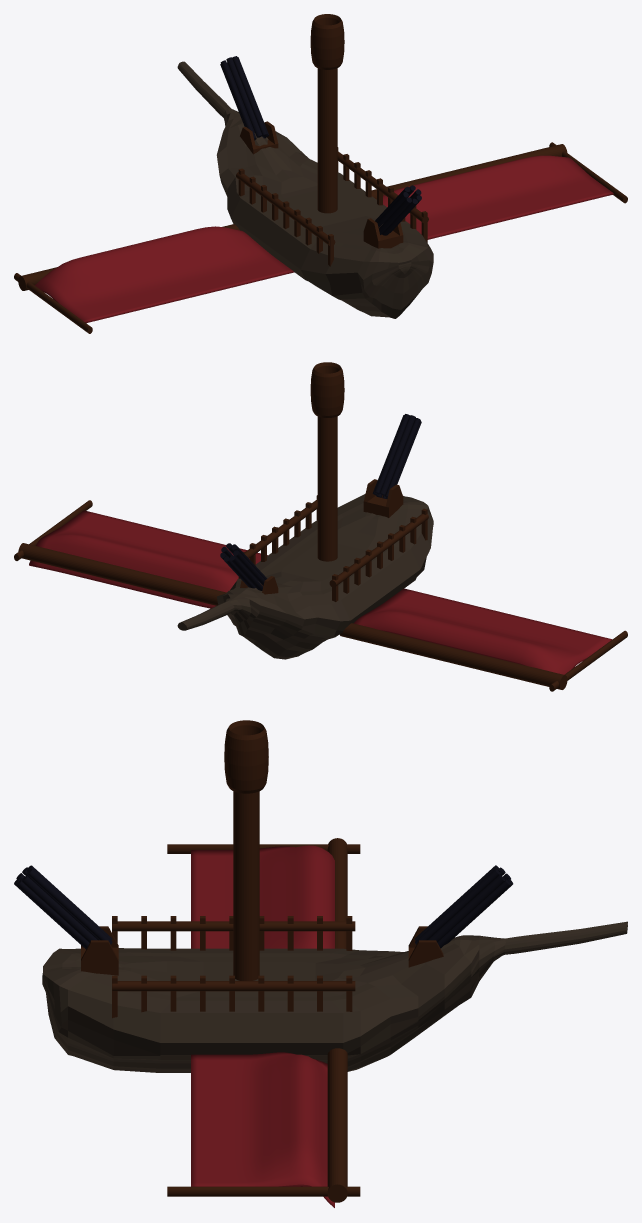
Rendered from ScoutShip.fbx.
The picture shows the model from 3 angles, top to bottom: view 1: azimuth 30°, elevation 25°; view 2: azimuth 150°, elevation 25°; view 3: azimuth 270°, elevation 25°; orthographic projection. The views are drawn at different scales.
Visible parts, largest first — view 1: Rumpf, Linkessegel, rechtessegel, Cylinder, Torus.002, Schießrohre.001, LeftReling, rechtesegelkonstruktion, Schießrohre, RightReling, Cylinder.001, MGBoden (+4 smaller); view 2: Rumpf, Linkessegel, rechtessegel, Linkesegelkonstruktion, rechtesegelkonstruktion, Cylinder, Torus.002, Schießrohre, LeftReling, Schießrohre.001, MGBoden, Cylinder.001 (+4 smaller); view 3: Rumpf, rechtessegel, Linkessegel, Cylinder, rechtesegelkonstruktion, Torus.002, Schießrohre.001, Schießrohre, Cylinder.013, Cylinder.001, Cylinder.004, RightReling (+5 smaller).
Boxes of the visible parts, bbox=[...] form: Rumpf: bbox=[177, 61, 433, 318]; Linkessegel: bbox=[35, 226, 294, 323]; rechtessegel: bbox=[383, 155, 613, 239]; Cylinder: bbox=[317, 68, 337, 213]; Torus.002: bbox=[310, 14, 344, 69]; Schießrohre.001: bbox=[220, 56, 269, 140]; LeftReling: bbox=[238, 168, 333, 266]; rechtesegelkonstruktion: bbox=[371, 144, 567, 199]; Schießrohre: bbox=[375, 185, 421, 235]; RightReling: bbox=[337, 147, 427, 242]; Cylinder.001: bbox=[236, 172, 335, 245]; MGBoden: bbox=[363, 218, 403, 248]; Rumpf: bbox=[177, 493, 433, 659]; Linkessegel: bbox=[354, 588, 612, 674]; rechtessegel: bbox=[29, 510, 267, 608]; Linkesegelkonstruktion: bbox=[339, 623, 567, 689]; rechtesegelkonstruktion: bbox=[18, 543, 226, 605]; Cylinder: bbox=[317, 416, 337, 561]; Torus.002: bbox=[310, 362, 344, 417]; Schießrohre: bbox=[372, 414, 421, 498]; LeftReling: bbox=[332, 508, 427, 601]; Schießrohre.001: bbox=[220, 543, 267, 590]; MGBoden: bbox=[363, 479, 403, 517]; Cylinder.001: bbox=[329, 514, 428, 587]; Rumpf: bbox=[42, 921, 627, 1072]; rechtessegel: bbox=[191, 1052, 334, 1207]; Linkessegel: bbox=[191, 845, 334, 948]; Cylinder: bbox=[233, 791, 259, 980]; rechtesegelkonstruktion: bbox=[327, 1048, 347, 1202]; Torus.002: bbox=[224, 720, 268, 793]; Schießrohre.001: bbox=[414, 865, 513, 948]; Schießrohre: bbox=[14, 865, 112, 949]; Cylinder.013: bbox=[112, 981, 355, 991]; Cylinder.001: bbox=[112, 921, 355, 931]; Cylinder.004: bbox=[167, 1186, 360, 1196]; RightReling: bbox=[112, 975, 352, 1018].
Size of the model in its own units: 4050 by 1864 by 3034.
